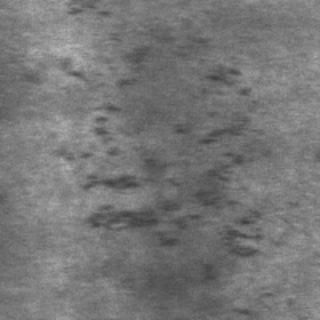rolled pit: (64, 42, 180, 242), (170, 62, 264, 264)
